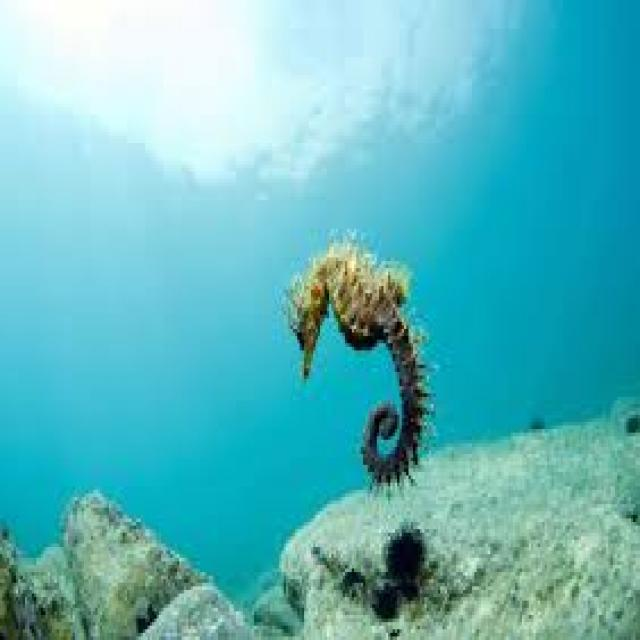SeaHorse: (282, 236, 436, 486)
